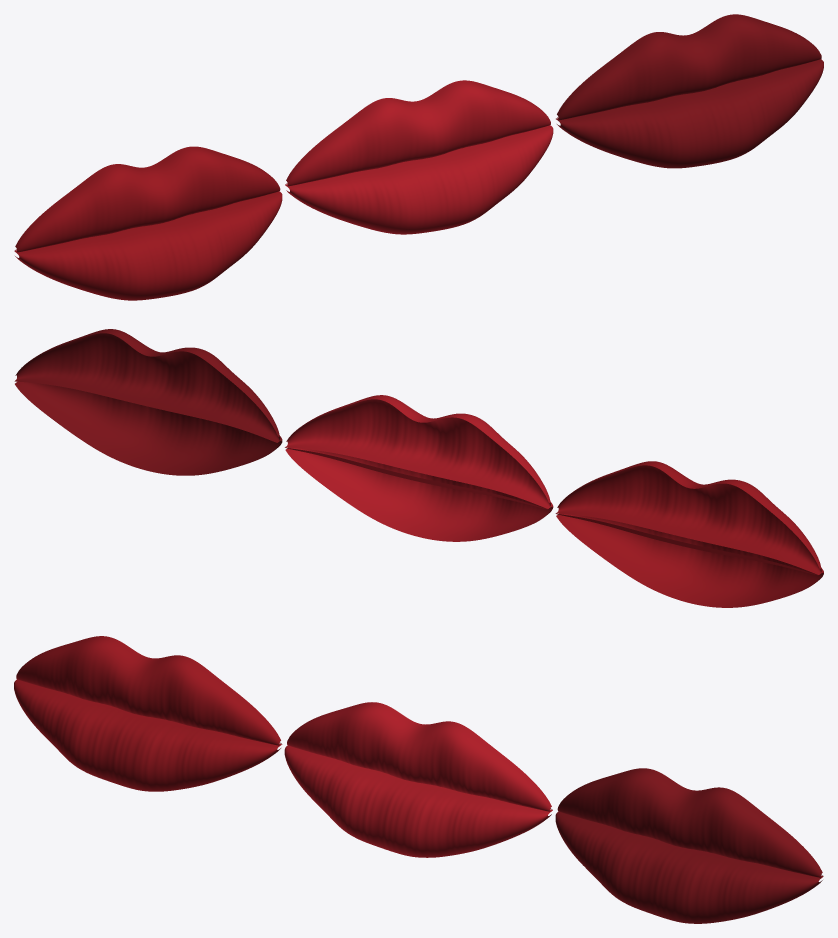
Rendered from lips1.dae.
3 renders of one model, top to bottom at view 1: azimuth 30°, elevation 25°; view 2: azimuth 150°, elevation 25°; view 3: azimuth 330°, elevation 25°, orthographic.
Parts seen in each view (by area): view 1: Lips, GlossyLips, MatteLips; view 2: GlossyLips, MatteLips, Lips; view 3: Lips, GlossyLips, MatteLips.
Part boxes in pixels (left/top/right/bottom): Lips: left=14, top=146, right=282, bottom=300; GlossyLips: left=285, top=80, right=553, bottom=234; MatteLips: left=556, top=14, right=823, bottom=168; GlossyLips: left=285, top=395, right=553, bottom=541; MatteLips: left=14, top=329, right=282, bottom=475; Lips: left=555, top=461, right=823, bottom=607; Lips: left=14, top=636, right=282, bottom=791; GlossyLips: left=284, top=702, right=552, bottom=857; MatteLips: left=555, top=768, right=823, bottom=923.
Bounding box in the file's own units: 5.2 × 0.7965 × 0.4726.
